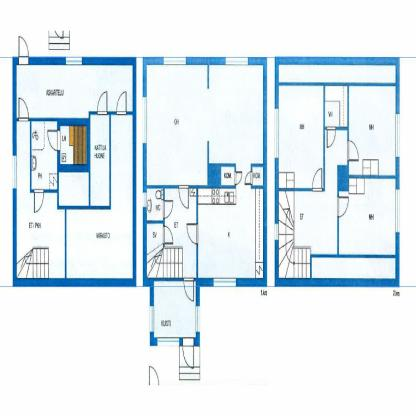door: (182, 338, 197, 372), (46, 129, 63, 156), (184, 222, 201, 248), (94, 89, 109, 118), (347, 137, 361, 166), (178, 185, 191, 211), (18, 36, 30, 64), (335, 199, 351, 220), (34, 186, 45, 216), (116, 89, 127, 118), (18, 97, 30, 122), (312, 166, 323, 192), (183, 276, 193, 304), (325, 126, 337, 148), (162, 200, 174, 221), (163, 228, 174, 250), (244, 170, 254, 190), (234, 170, 244, 186)
window: (274, 107, 279, 163), (225, 56, 249, 67), (395, 187, 400, 236), (213, 278, 236, 288), (158, 337, 182, 346), (142, 95, 146, 144), (163, 56, 185, 64), (65, 56, 82, 66), (12, 154, 17, 188), (149, 307, 155, 332), (396, 113, 399, 156), (196, 305, 200, 331), (142, 191, 146, 208), (275, 223, 278, 240)
zone: (63, 115, 133, 280), (280, 127, 348, 279), (16, 117, 66, 279), (147, 63, 208, 184), (208, 64, 262, 185), (17, 63, 133, 117), (199, 187, 263, 277), (279, 85, 324, 188), (340, 176, 397, 256), (146, 188, 196, 277), (349, 86, 395, 175), (279, 63, 396, 82), (155, 282, 196, 336), (311, 257, 395, 278), (32, 121, 57, 190), (91, 116, 110, 205), (58, 172, 89, 208), (325, 84, 347, 126), (61, 126, 85, 163), (148, 187, 164, 221)
